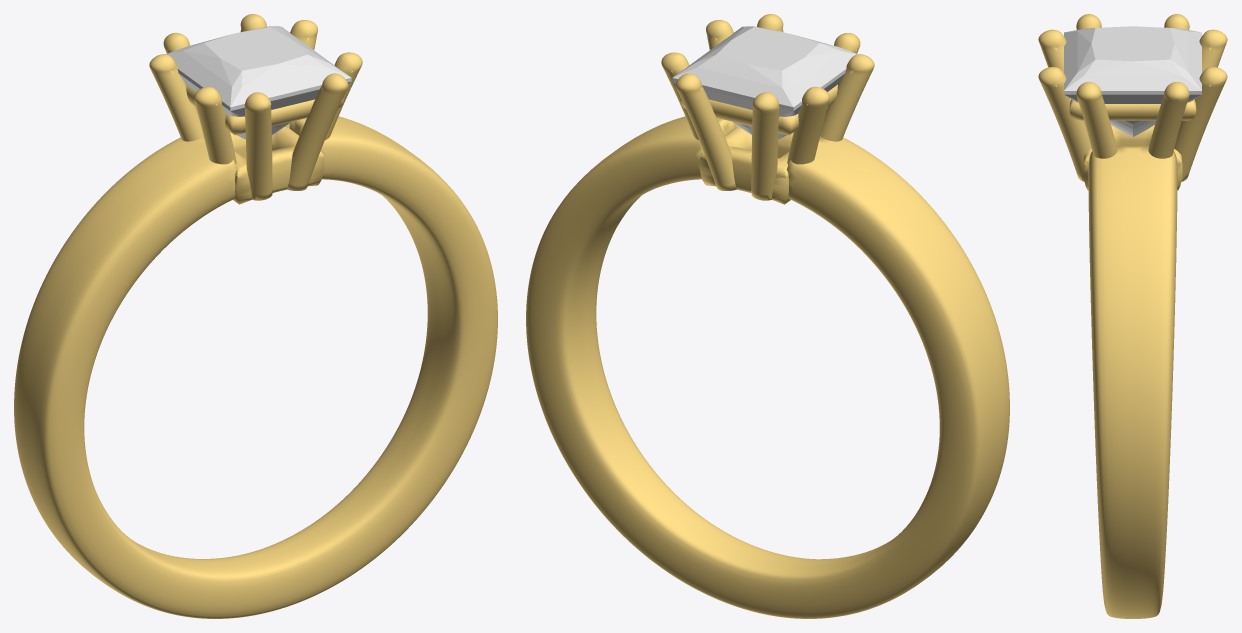
The model's file is diamond-princess-yellowgold-8prong-straighttaperedband-solitaire.glb.
3 renders of one model, left to right at view 1: azimuth 30°, elevation 25°; view 2: azimuth 150°, elevation 25°; view 3: azimuth 270°, elevation 25°, orthographic.
Parts seen in each view (by area): view 1: metal, stone; view 2: metal, stone; view 3: metal, stone.
Boxes of the visible parts, x1,y1,x2,y2 form: metal: (14,14,497,618); stone: (166,26,351,139); metal: (526,14,1009,618); stone: (672,26,857,139); metal: (1038,14,1227,618); stone: (1064,26,1201,136).
Bounding box in the file's own units: 20.51 × 23.85 × 7.42.
